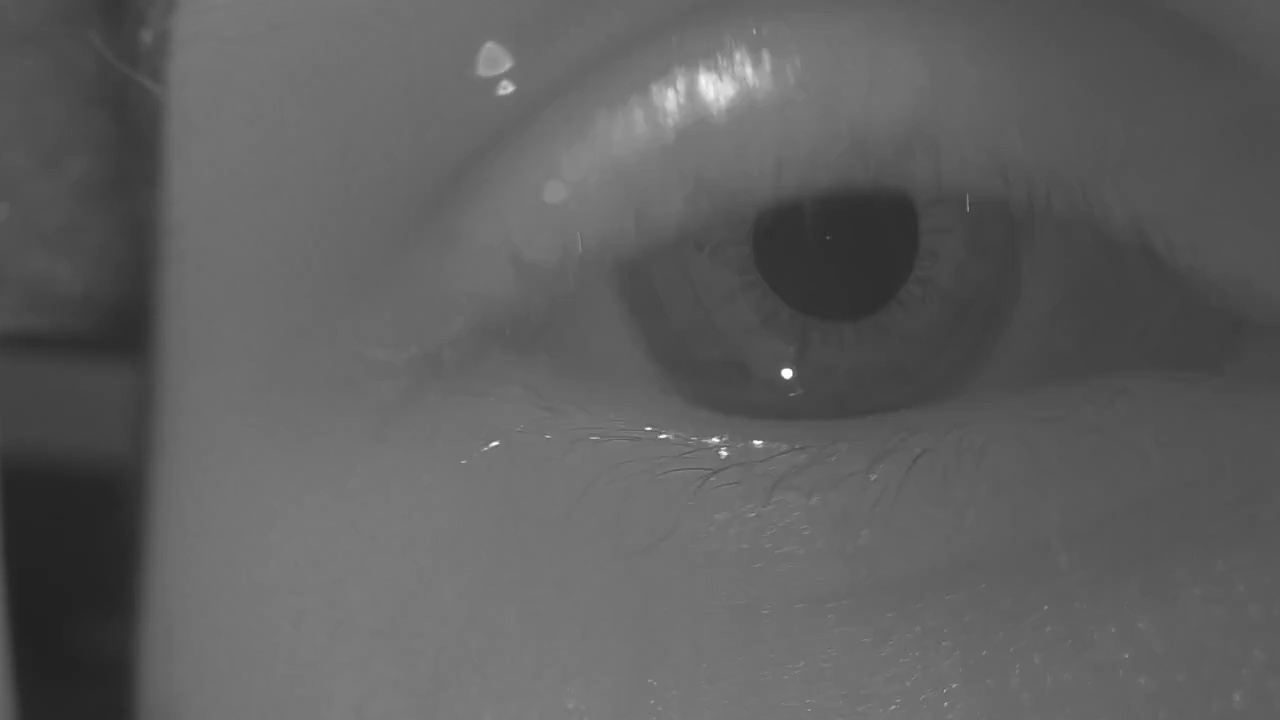pupil: (749, 185, 919, 322)
